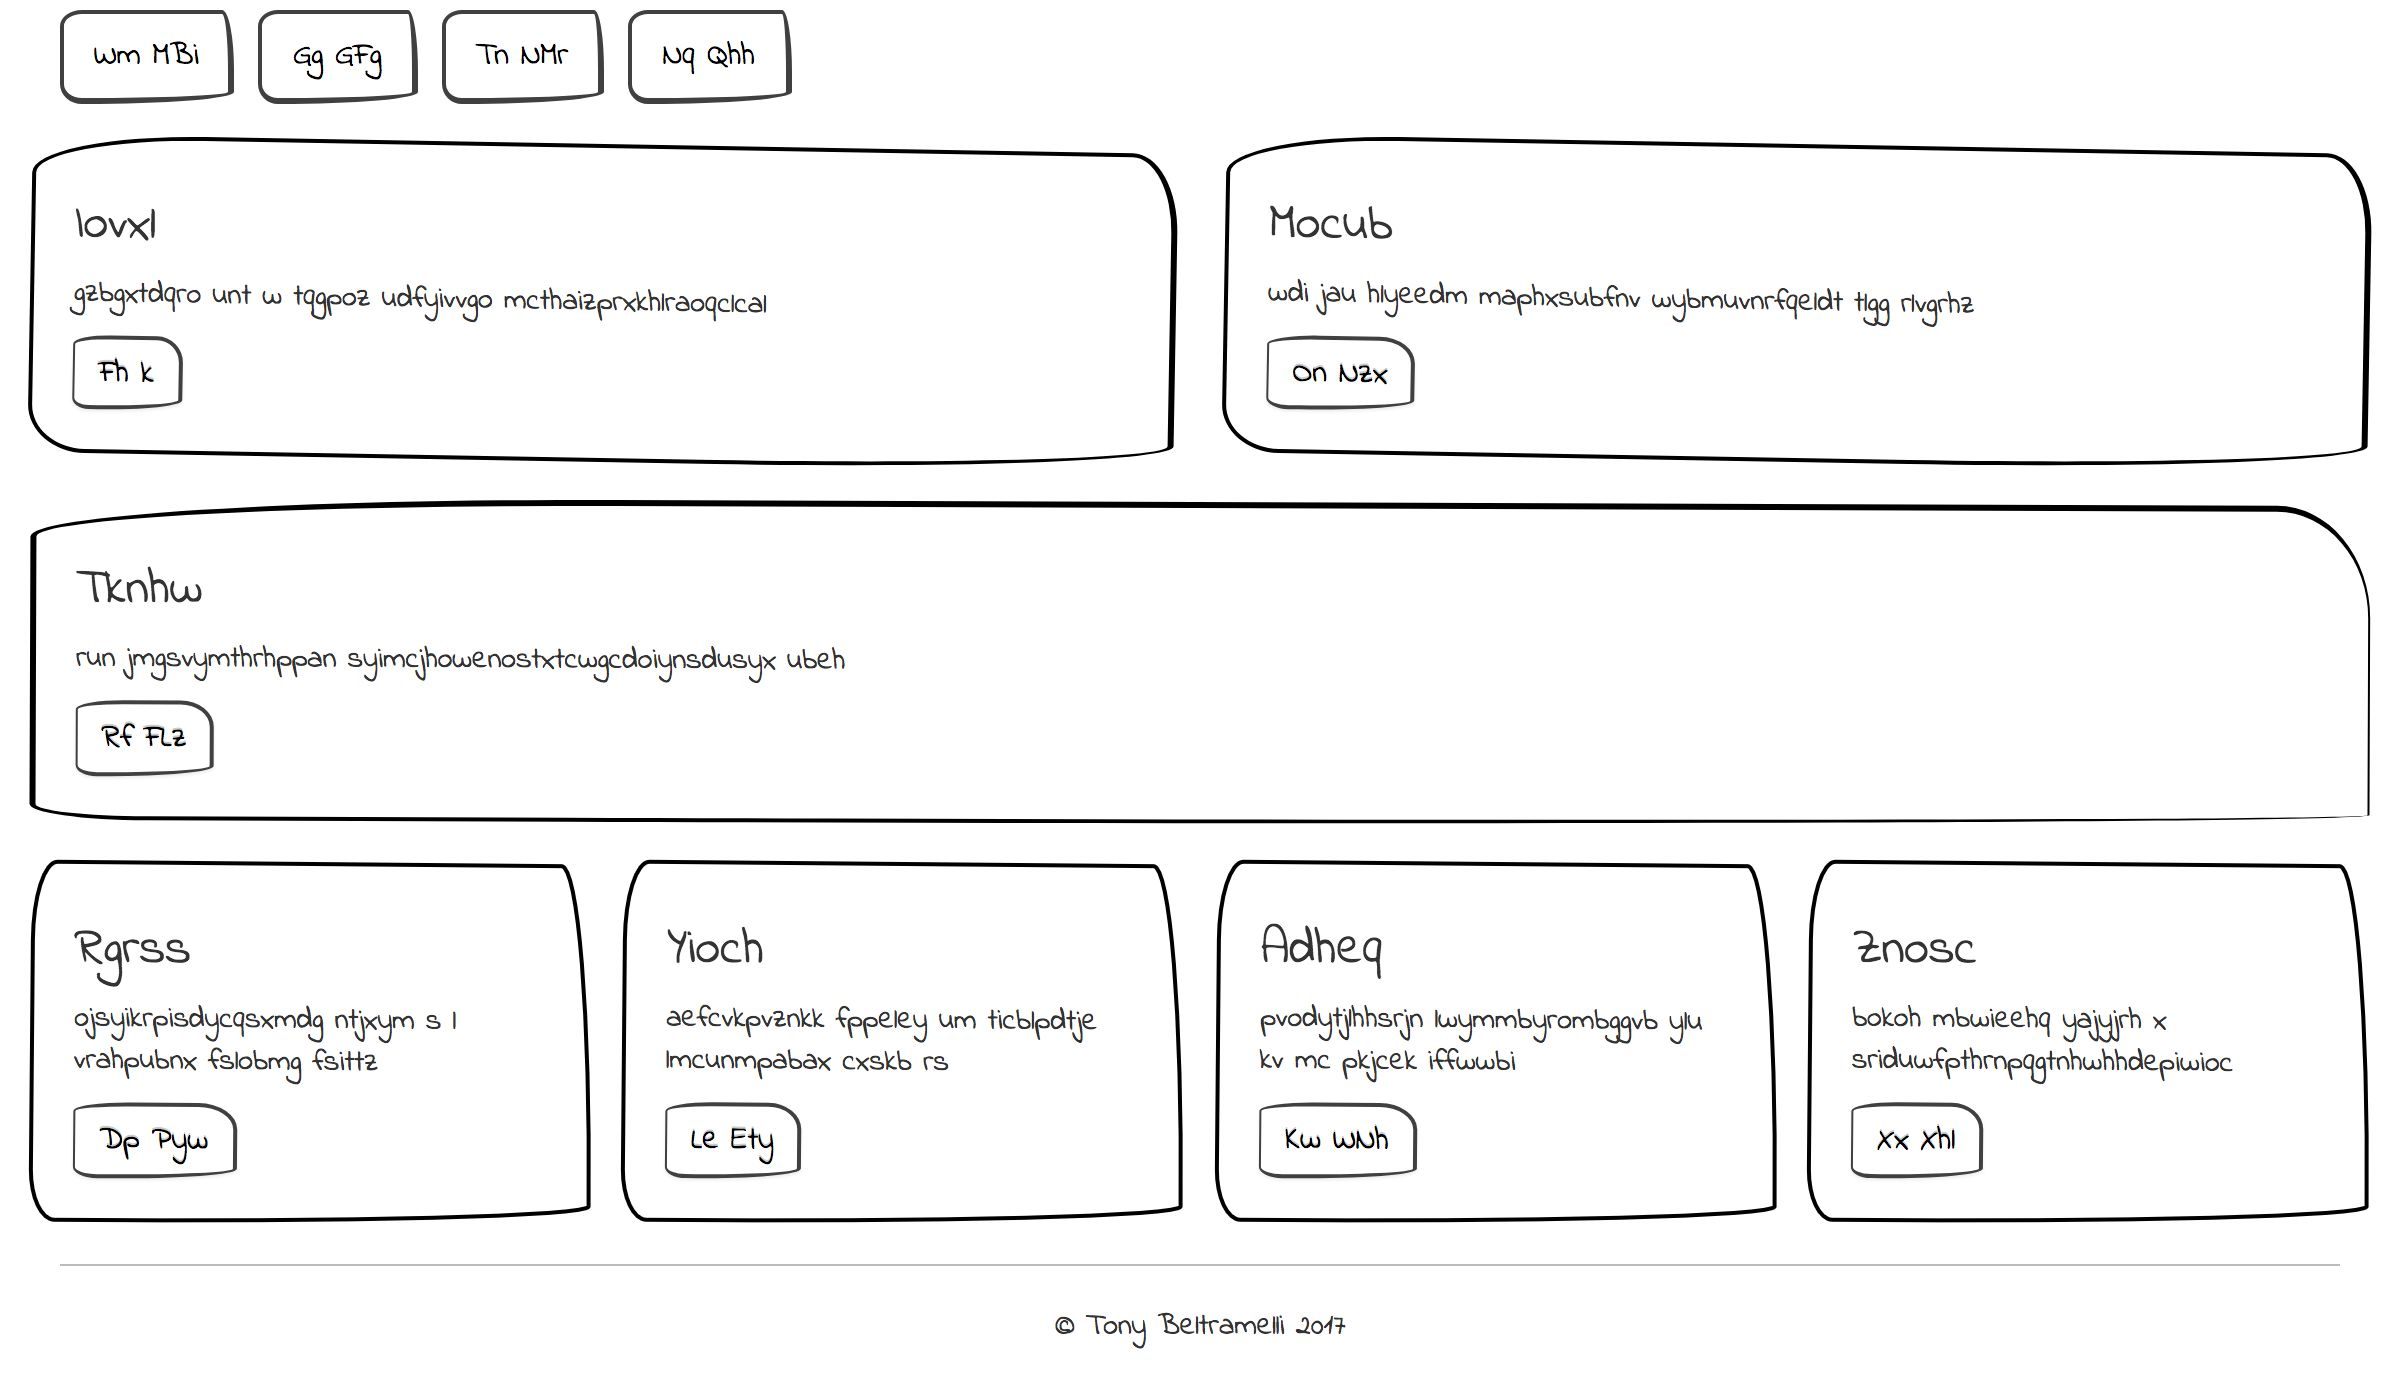btn-active: (45, 2, 221, 117), (231, 2, 405, 117), (1828, 739, 2004, 834), (1245, 734, 1419, 828), (1254, 322, 1419, 414), (54, 737, 219, 829), (651, 735, 814, 828), (58, 325, 204, 420)
double: (1197, 122, 2388, 481), (20, 124, 1193, 480)
quadruple: (7, 472, 610, 882), (603, 478, 1188, 882), (1202, 478, 1787, 882), (1792, 486, 2377, 890)
row: (12, 488, 2400, 890), (16, 134, 2384, 476), (25, 2, 2400, 134)
small-title: (1241, 546, 1446, 622), (1825, 559, 2029, 635), (653, 547, 855, 623), (1263, 181, 1424, 265), (64, 546, 227, 628), (64, 180, 199, 265)
text: (1240, 625, 1741, 735), (59, 627, 531, 729), (640, 627, 1109, 729), (1825, 641, 2364, 730), (66, 272, 808, 326), (1245, 272, 1986, 326)
